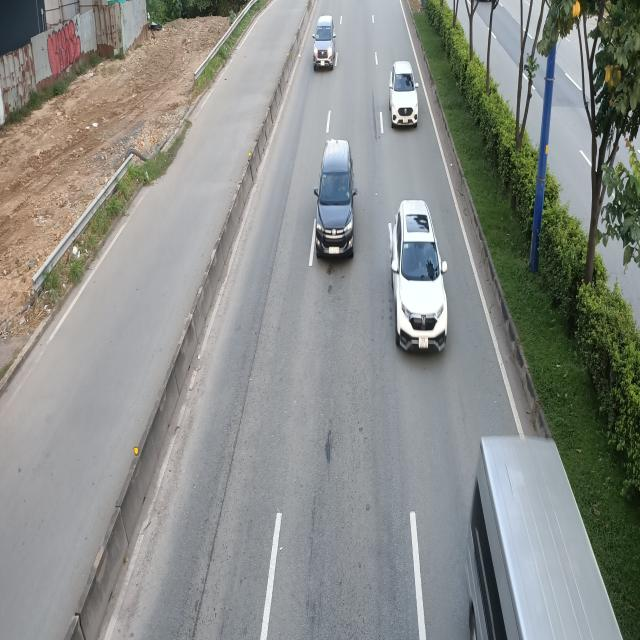car: (393, 199, 450, 354), (315, 140, 358, 261), (390, 61, 420, 128), (312, 16, 336, 71)
van: (470, 436, 639, 638)
